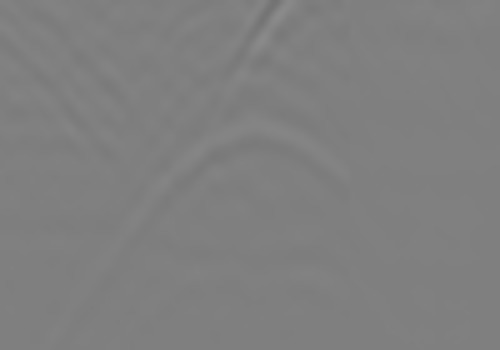hyperbola: (113, 113, 385, 265)
